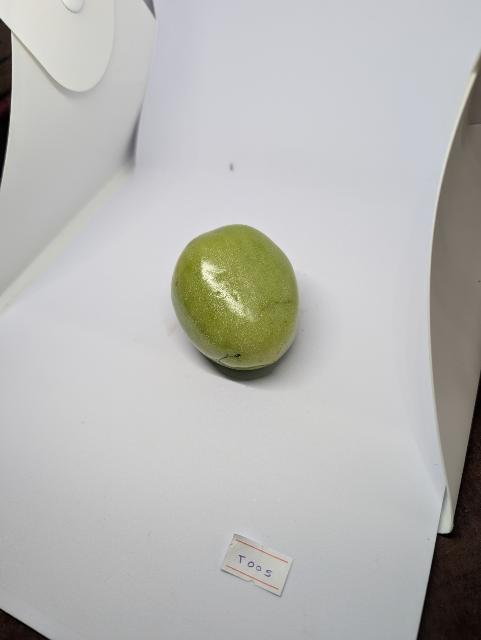green: (171, 222, 301, 376)
